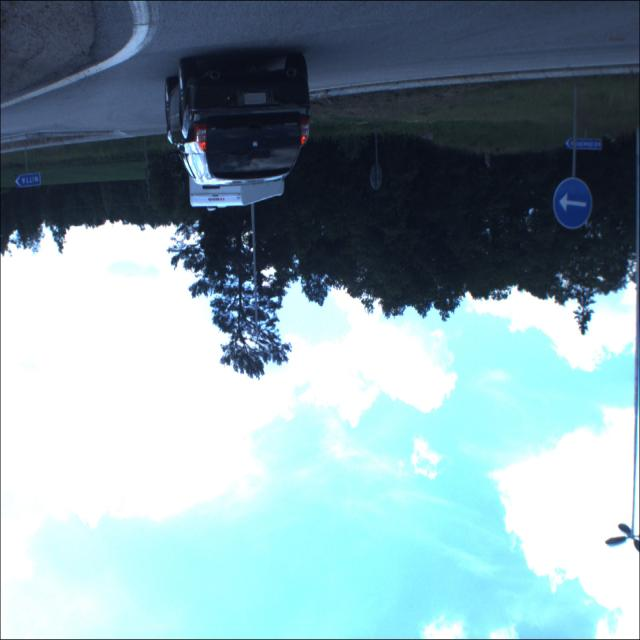Turn Left: (547, 180, 595, 230)
